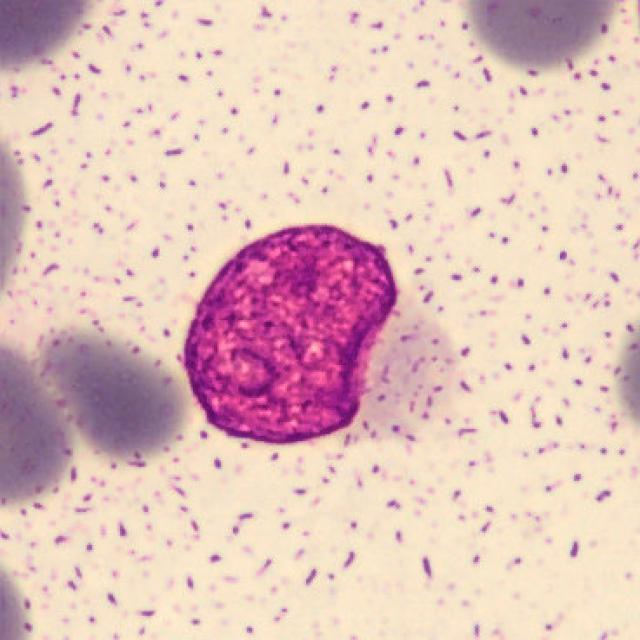Mieloblasto: (181, 225, 398, 448)
